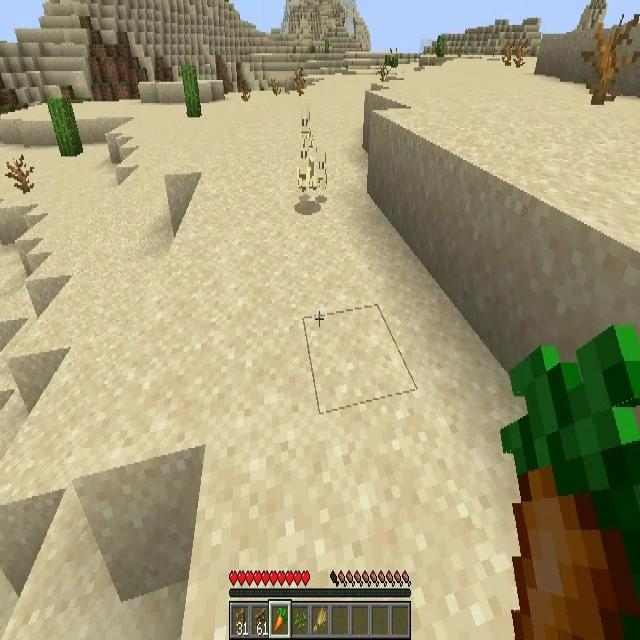rabbit: (297, 139, 314, 185), (296, 105, 312, 152), (312, 150, 326, 192)
